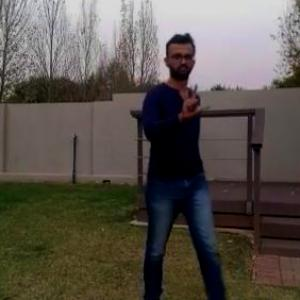land_hand: (171, 81, 216, 124)
